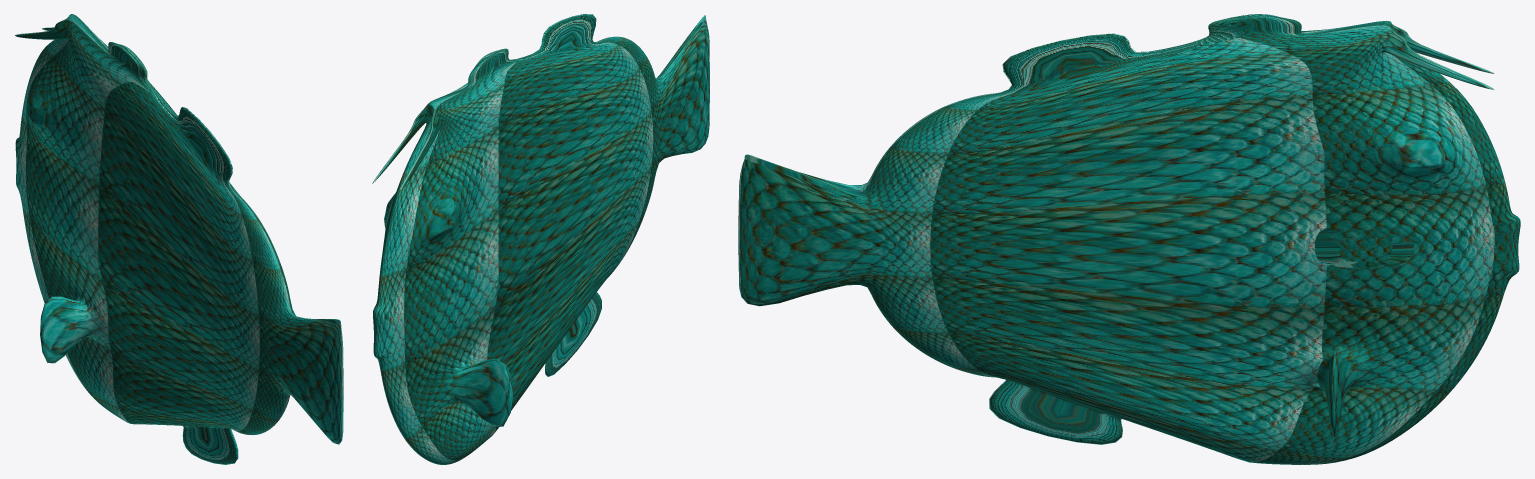
File: blue fish.fbx
The picture shows the model from 3 angles, left to right: view 1: azimuth 30°, elevation 25°; view 2: azimuth 150°, elevation 25°; view 3: azimuth 270°, elevation 25°; orthographic projection. The views are drawn at different scales.
Parts seen in each view (by area): view 1: pSphere1; view 2: pSphere1; view 3: pSphere1.
Part boxes in pixels (bbox=[...]): pSphere1: bbox=[15, 14, 343, 464]; pSphere1: bbox=[372, 14, 709, 464]; pSphere1: bbox=[738, 14, 1520, 464].
Size of the model in its own units: 6.14 by 18.83 by 29.72.
